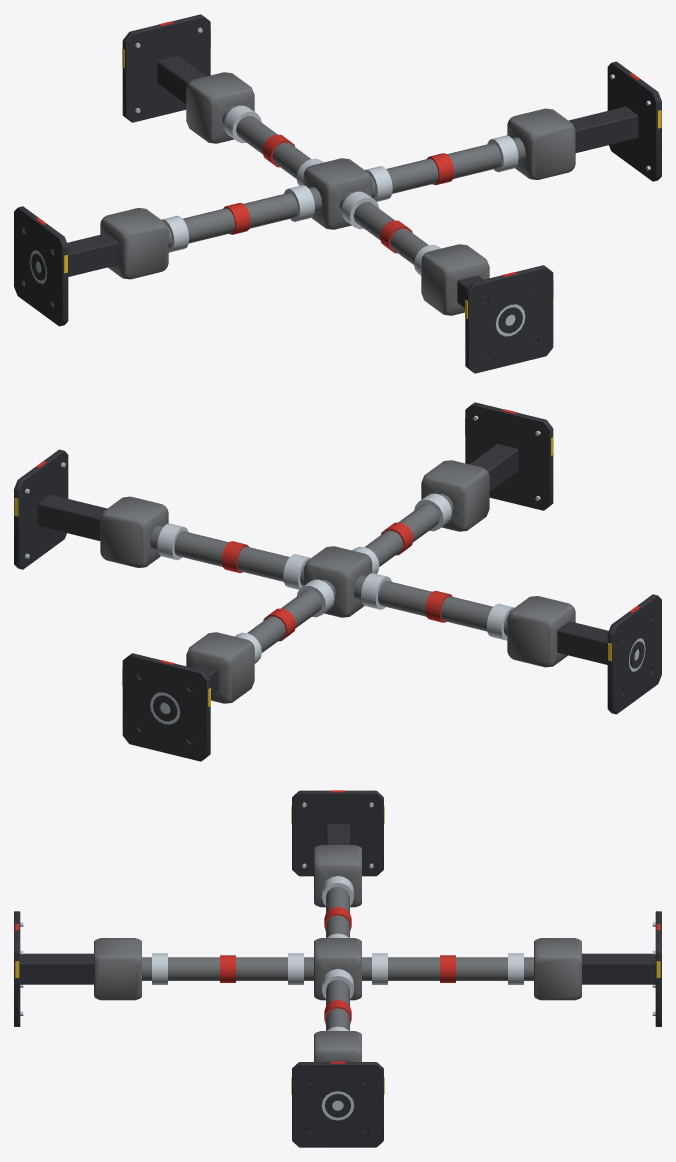
Rendered from R4C_ROD_PLUS.glb.
The picture shows the model from 3 angles, top to bottom: view 1: azimuth 30°, elevation 25°; view 2: azimuth 150°, elevation 25°; view 3: azimuth 270°, elevation 25°; orthographic projection. The views are drawn at different scales.
Parts seen in each view (by area): view 1: R4C_ROD_PLUS; view 2: R4C_ROD_PLUS; view 3: R4C_ROD_PLUS.
Boxes of the visible parts, <box> form: R4C_ROD_PLUS: <box>14,14,661,373</box>; R4C_ROD_PLUS: <box>14,402,661,761</box>; R4C_ROD_PLUS: <box>14,790,661,1147</box>.
Bounding box in the file's own units: 1.62 × 0.2316 × 1.62.
